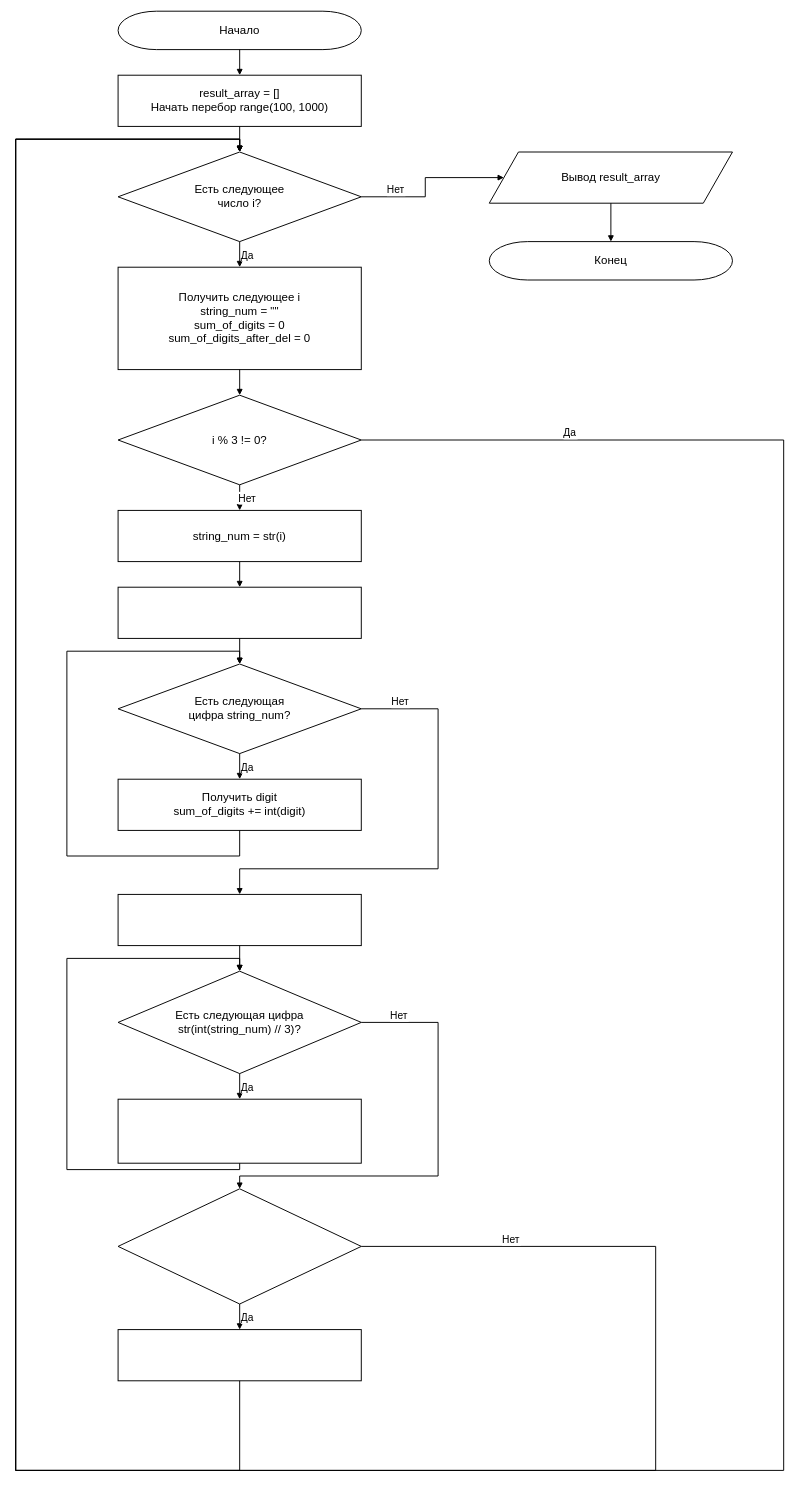
The diagram is 801 pixels wide and 1487 high, and some of its shapes have lost their labels. The centre of each missing label's shape, as x and y in pixels:
"result_array.append(i)" goes at (x=239, y=1355).
"sum_of_digits > sum_of_digits_after_del?" goes at (x=239, y=1246).
"Начать перебор цифр str(int(string_num) // 3)" goes at (x=239, y=920).
"Начать перебор цифр string_num" goes at (x=239, y=612).
"Получить chastnoe sum_of_digits_after_del += int(chastnoe)" goes at (x=239, y=1130).
